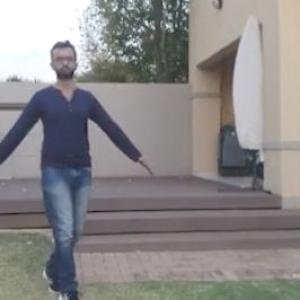land: (0, 55, 140, 289)
